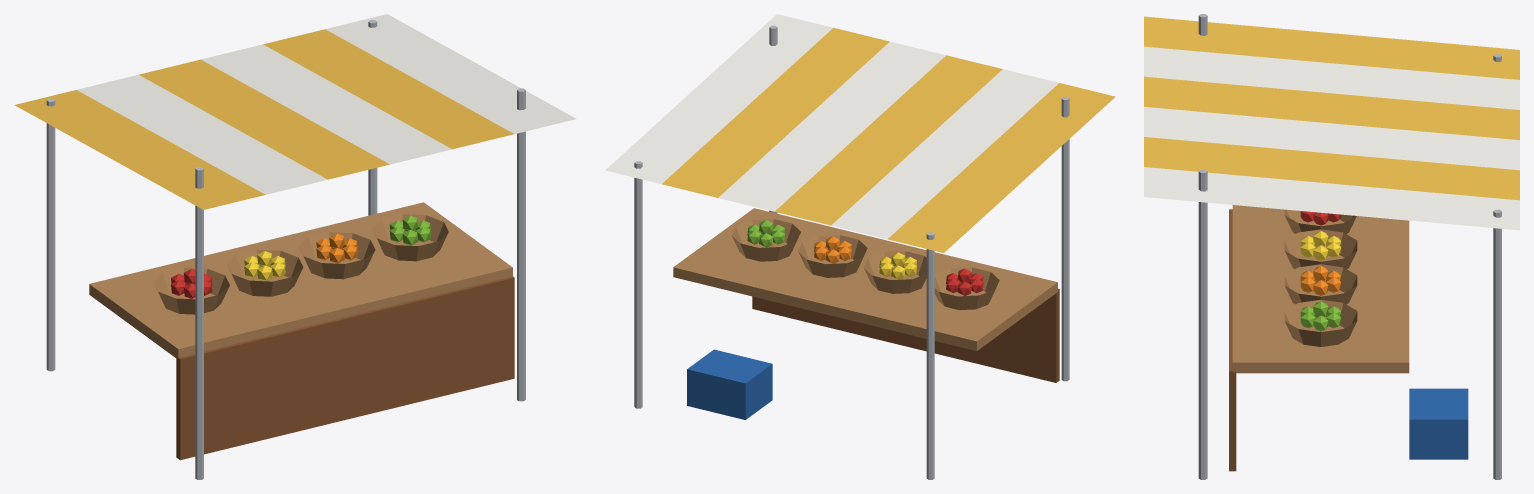
File: BLD_MarketStall_Yellow.fbx
The picture shows the model from 3 angles, left to right: view 1: azimuth 30°, elevation 25°; view 2: azimuth 150°, elevation 25°; view 3: azimuth 270°, elevation 25°; orthographic projection. The views are drawn at different scales.
Visible parts, largest first — view 1: BLD_MarketStall_Yellow; view 2: BLD_MarketStall_Yellow; view 3: BLD_MarketStall_Yellow.
Boxes of the visible parts, x1,y1,x2,y2 form: BLD_MarketStall_Yellow: (14, 14, 576, 479); BLD_MarketStall_Yellow: (605, 14, 1115, 479); BLD_MarketStall_Yellow: (1144, 14, 1519, 479).
Size of the model in its own units: 2.9 by 2.3 by 2.55.
